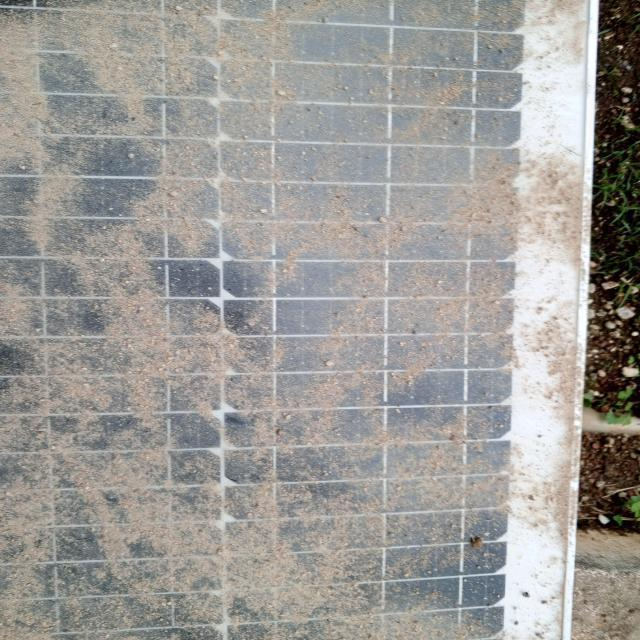Anomaly Solar Panel: (3, 5, 548, 639)
Surface Contaminant: (8, 9, 536, 637)
